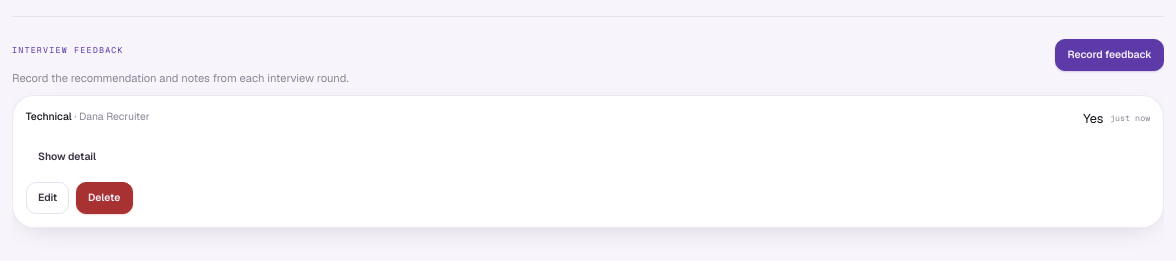
InterviewFeedbackSection › exposes the expanded state and controlled detail region on its disclosure
The width and height of the screenshot is (1176, 261).
Click the button "Show detail" at (67, 157), box [26,141,108,173]
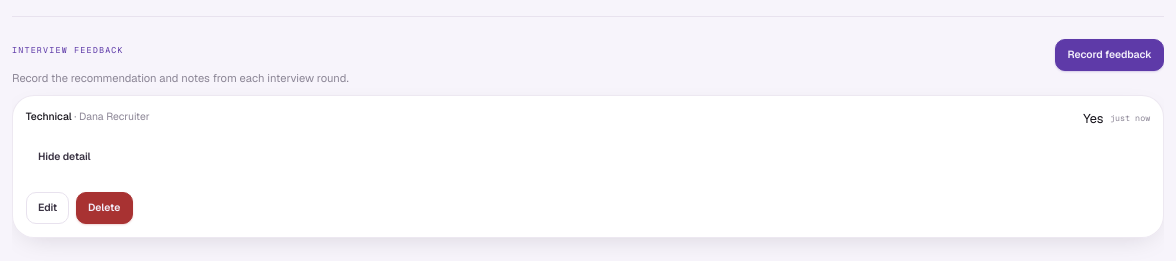
Now the button named "Show detail" is expanded, box [26,141,103,173]
